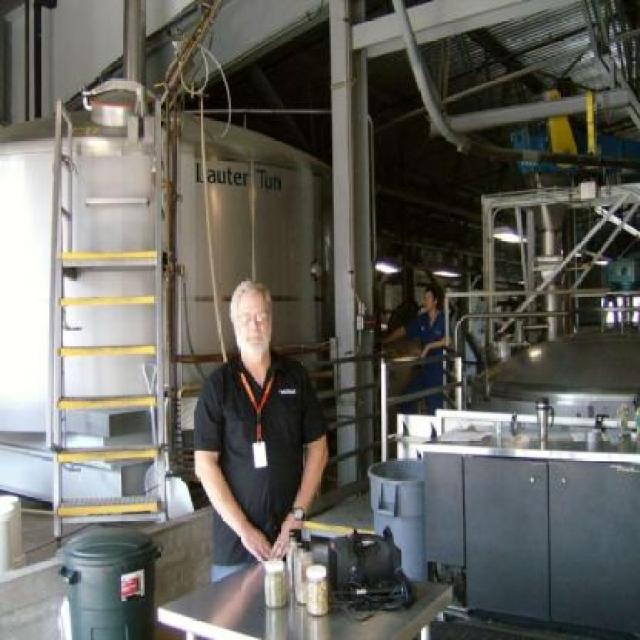stair: (46, 96, 165, 550)
